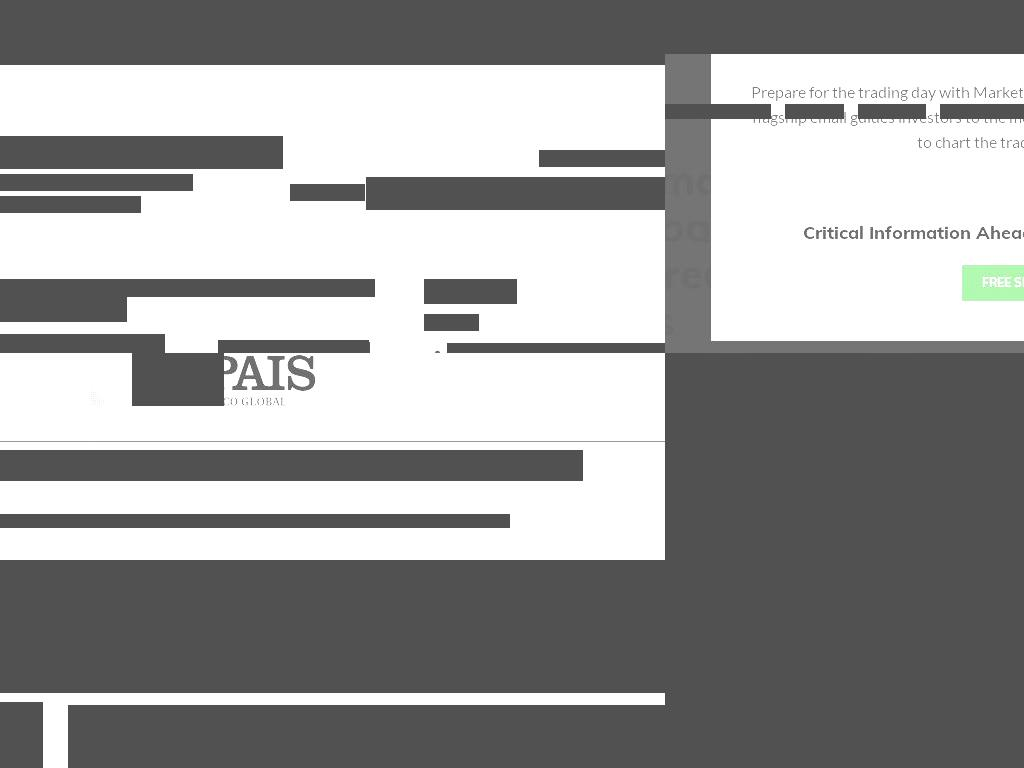button: (132, 353, 224, 406), (471, 25, 556, 65), (393, 25, 472, 65), (275, 450, 370, 481), (0, 25, 71, 65), (127, 450, 209, 481), (444, 450, 524, 481), (48, 450, 127, 481), (962, 264, 1024, 301), (370, 450, 444, 481), (540, 184, 665, 201), (147, 514, 297, 528), (421, 184, 542, 201), (209, 450, 275, 481), (524, 450, 583, 481), (351, 25, 394, 65), (296, 514, 411, 528), (0, 450, 48, 481), (410, 514, 510, 528), (290, 184, 365, 201), (58, 514, 148, 528), (365, 184, 422, 201)
field: (563, 33, 665, 61)
heading: (665, 156, 1024, 344), (665, 514, 1024, 600), (665, 599, 1024, 644), (751, 25, 1024, 59), (751, 220, 1024, 245), (129, 136, 283, 169), (0, 136, 130, 169), (0, 297, 127, 322), (424, 279, 517, 304)
iframe: (0, 560, 665, 693), (665, 0, 1024, 54)
image: (665, 353, 1024, 768), (0, 0, 665, 65), (132, 353, 317, 406)
link: (447, 343, 665, 353), (13, 196, 137, 213), (665, 104, 771, 119), (940, 104, 1024, 119), (539, 150, 602, 167), (858, 104, 926, 119), (424, 314, 479, 331), (533, 0, 614, 11), (785, 104, 844, 119), (472, 0, 525, 11), (622, 0, 665, 11)
text: (224, 353, 665, 406), (751, 78, 1024, 154), (0, 279, 375, 297), (540, 177, 665, 210), (421, 177, 541, 210), (0, 174, 193, 191), (0, 334, 165, 353), (290, 177, 366, 210), (4, 334, 121, 351), (365, 177, 422, 210), (357, 0, 464, 11), (601, 150, 663, 167), (0, 514, 59, 528), (0, 196, 13, 213), (136, 196, 141, 213)
